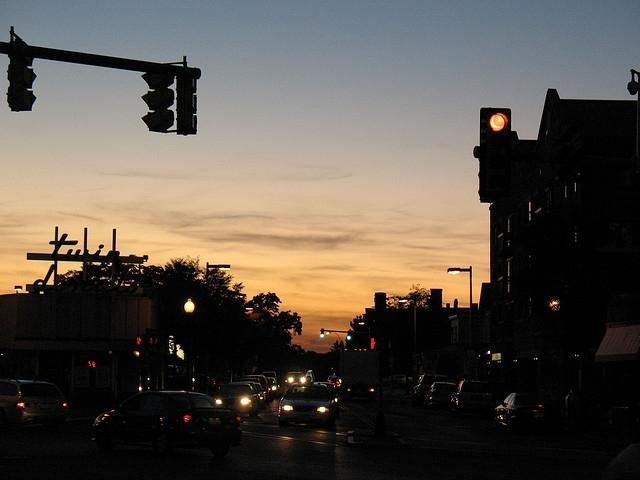car: (94, 388, 242, 462), (0, 374, 80, 438), (278, 383, 335, 425), (492, 391, 550, 432), (212, 382, 259, 416), (450, 380, 490, 404), (424, 382, 459, 403), (412, 372, 433, 399), (284, 372, 307, 386), (256, 382, 266, 408), (236, 386, 254, 398)
truck: (333, 348, 378, 398)
